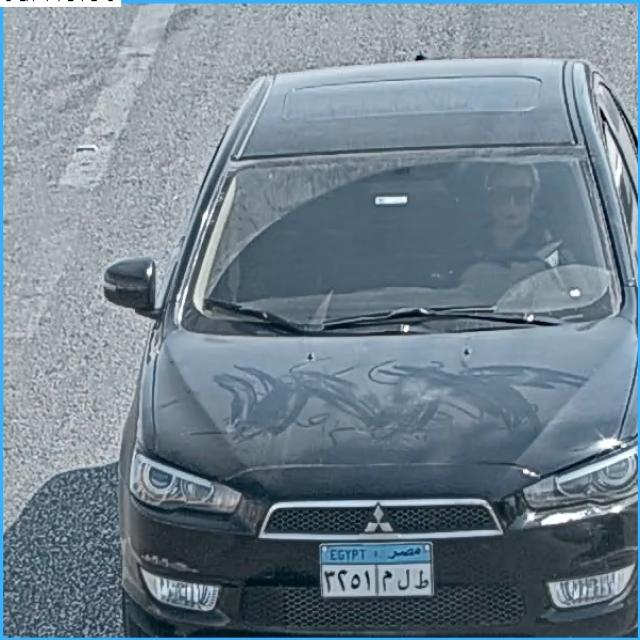windshield: (181, 157, 621, 315)
